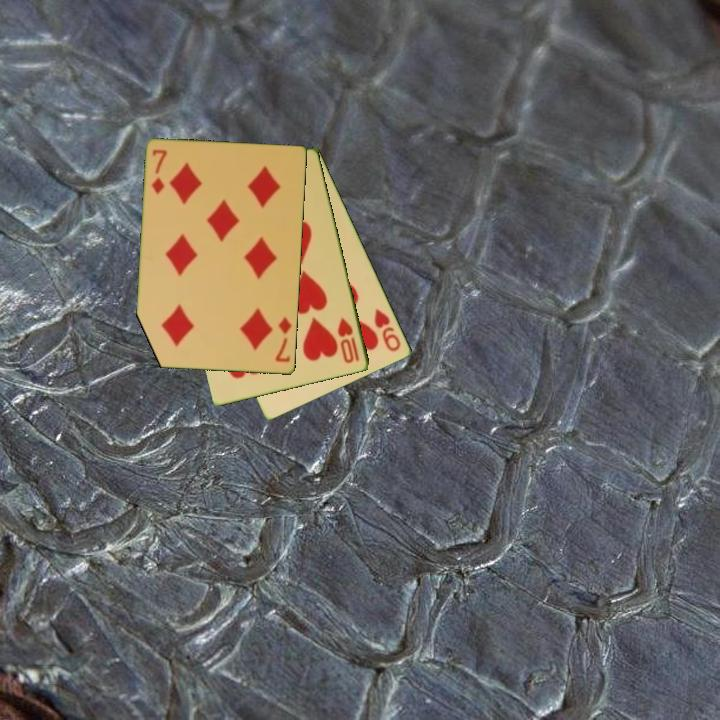10h: (334, 314, 362, 366)
7d: (272, 314, 294, 365), (148, 146, 170, 197)
9h: (371, 305, 404, 355)
